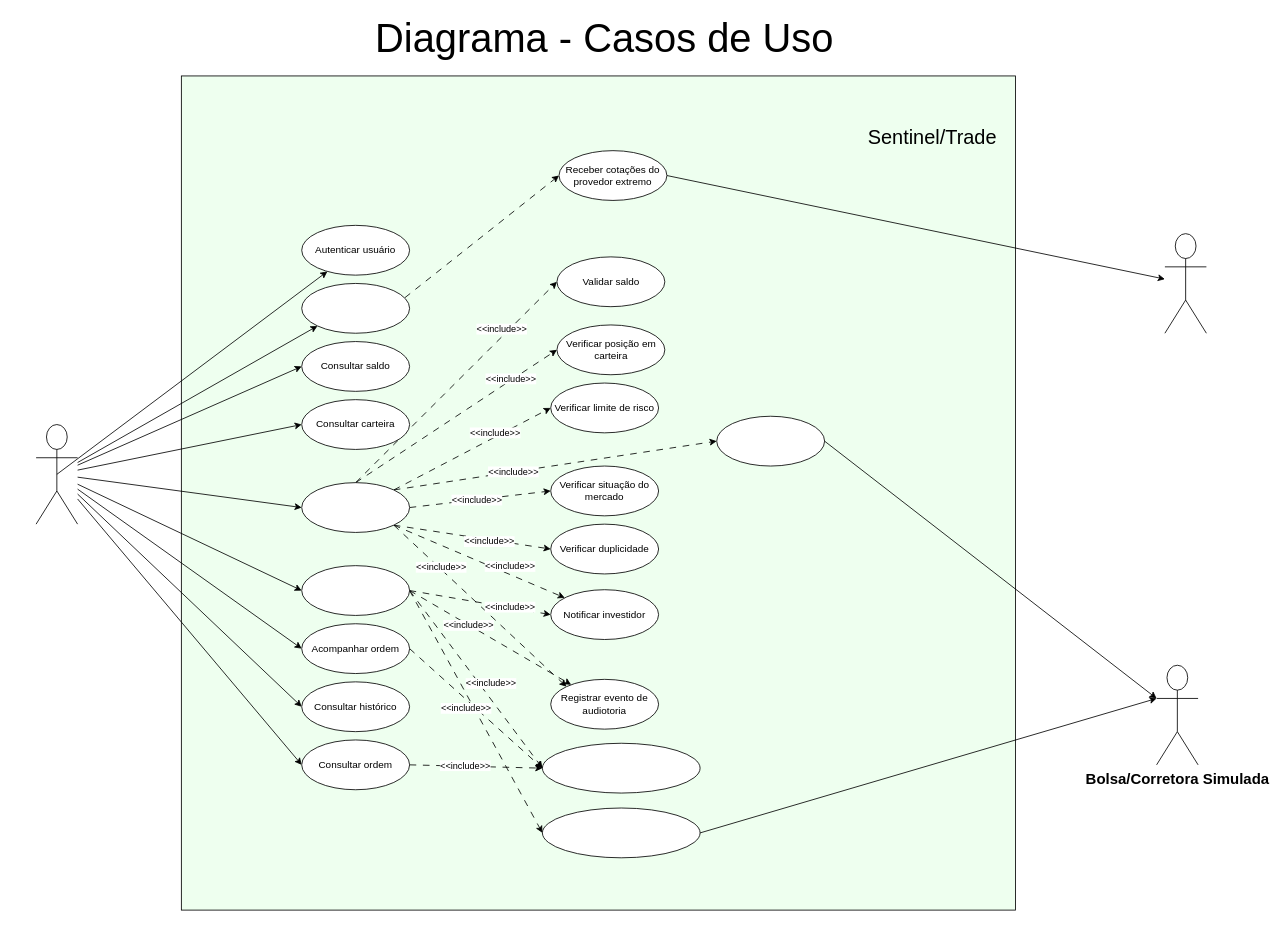
This 1283x925 diagram has some shape labels left out. Here are the shapes that lost their labels. From the top down, the box of each, then its label:
(1164, 233, 1206, 333): Provedor de Cotações
(301, 283, 410, 333): Consultar cotações
(716, 415, 825, 466): Transmitir ordem para a Bolsa/Corretora
(35, 424, 78, 524): Investidor
(301, 482, 410, 532): Enviar ordem
(301, 565, 410, 615): Cancelar ordem
(542, 742, 700, 793): Verificar status da ordem
(542, 807, 700, 858): Solicitar cancelamento à Bolsa/Corretora
